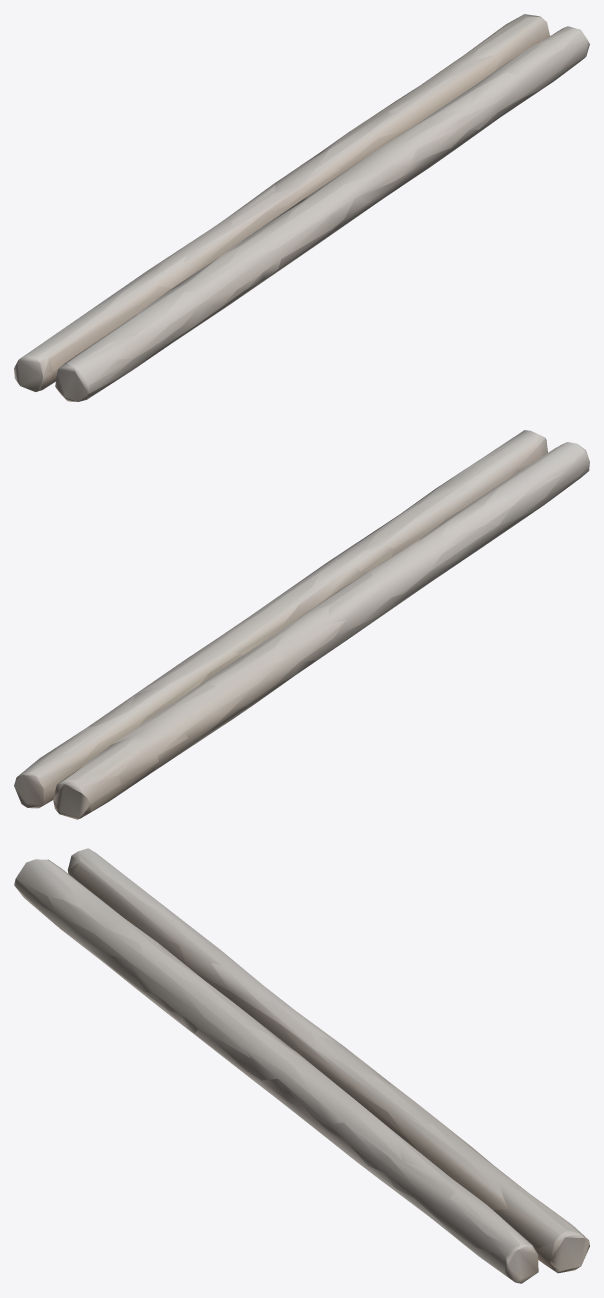
Rendered from 0012_mask_013_chopsticks.glb.
3 views of the same model, one above another, from view 1: azimuth 30°, elevation 25°; view 2: azimuth 210°, elevation 25°; view 3: azimuth 270°, elevation 25° (orthographic). The views are drawn at different scales.
Parts seen in each view (by area): view 1: mask_013_object; view 2: mask_013_object; view 3: mask_013_object.
Part boxes in pixels (left/top/right/bottom): mask_013_object: left=14, top=14, right=589, bottom=401; mask_013_object: left=14, top=430, right=589, bottom=819; mask_013_object: left=14, top=848, right=589, bottom=1283.
Bounding box in the file's own units: 0.3727 × 0.0182 × 0.2241.
